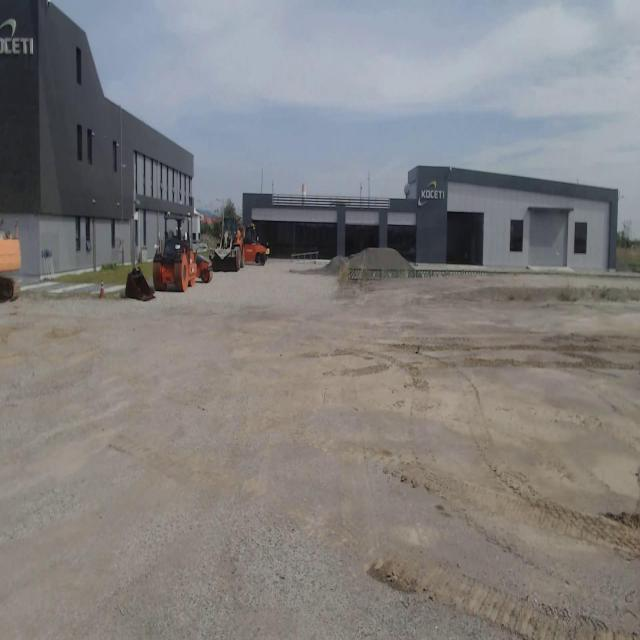white-sand: (0, 260, 640, 639)
